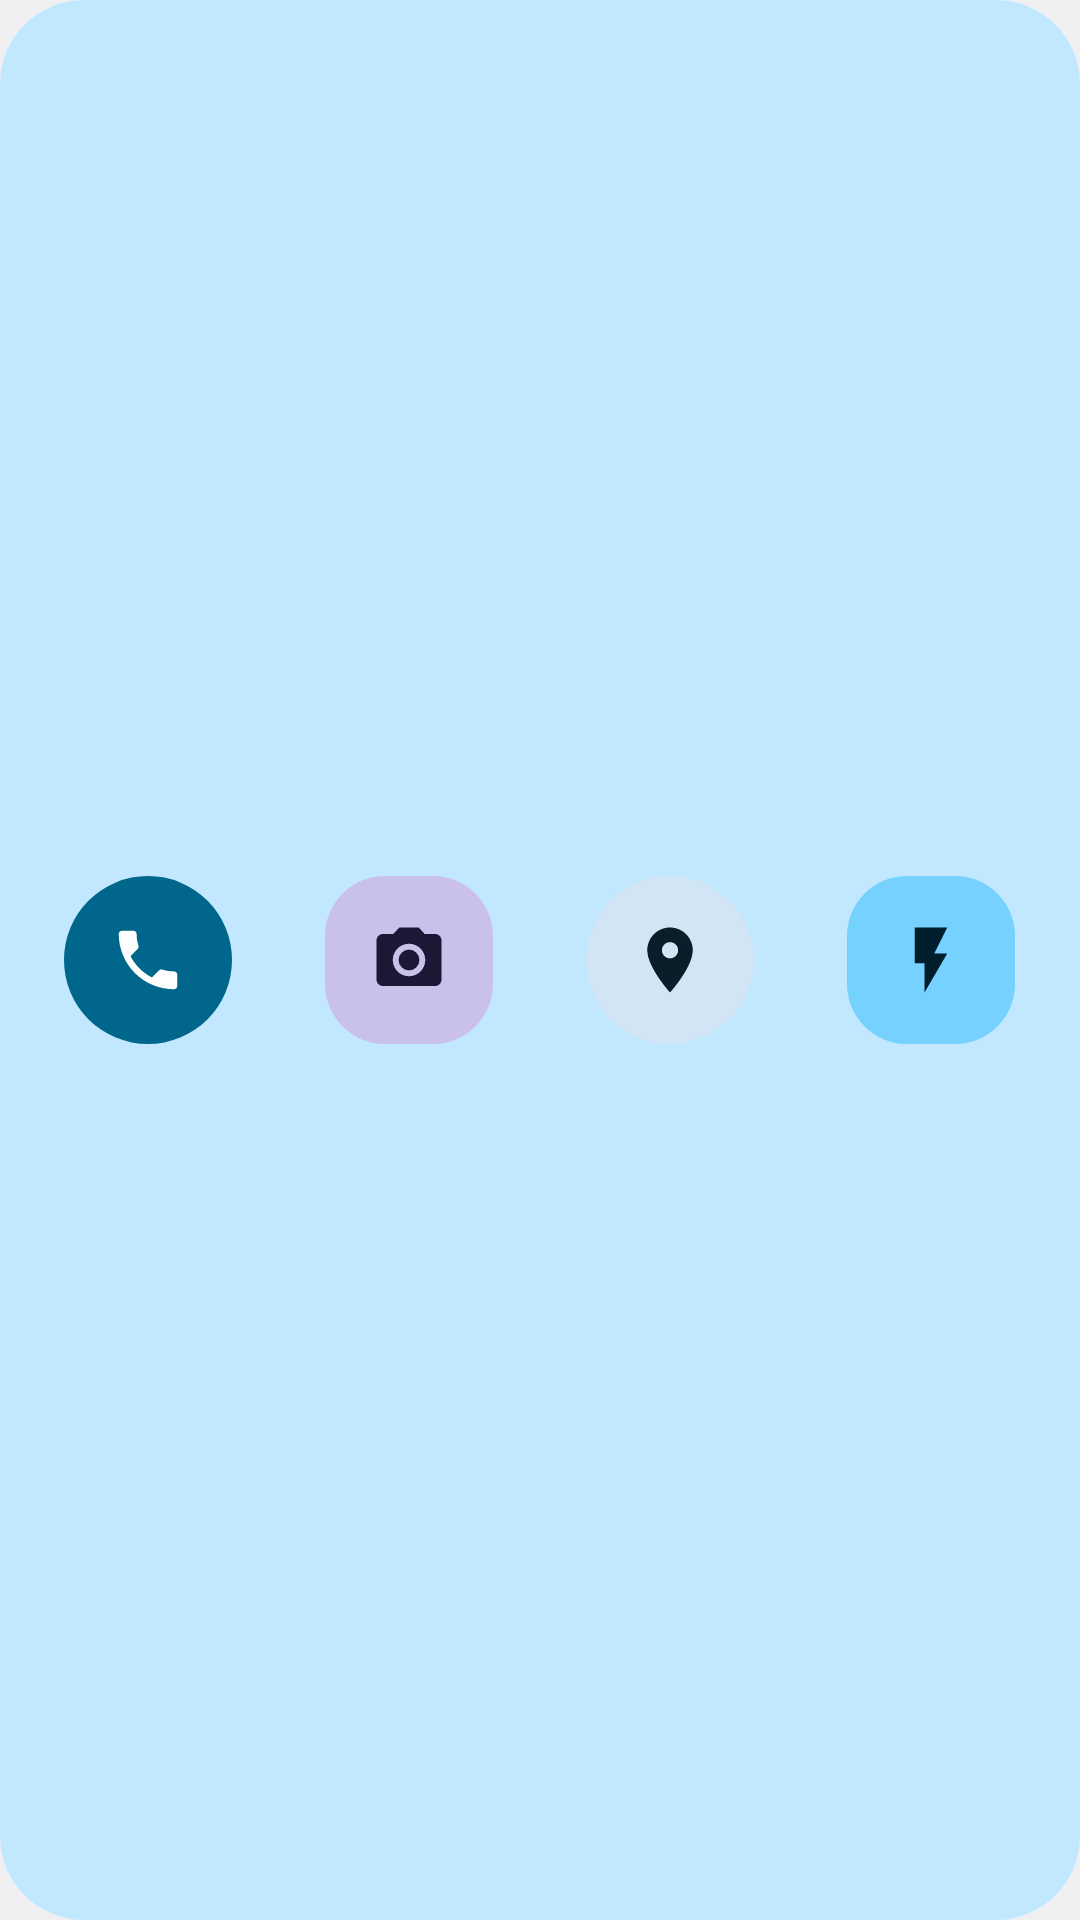

Where to tap for icons on this 1080x1920 app screen, as (x=x, y=y):
bolt: (x=931, y=960)
camera: (x=409, y=960)
phone: (x=148, y=960)
place: (x=670, y=959)
